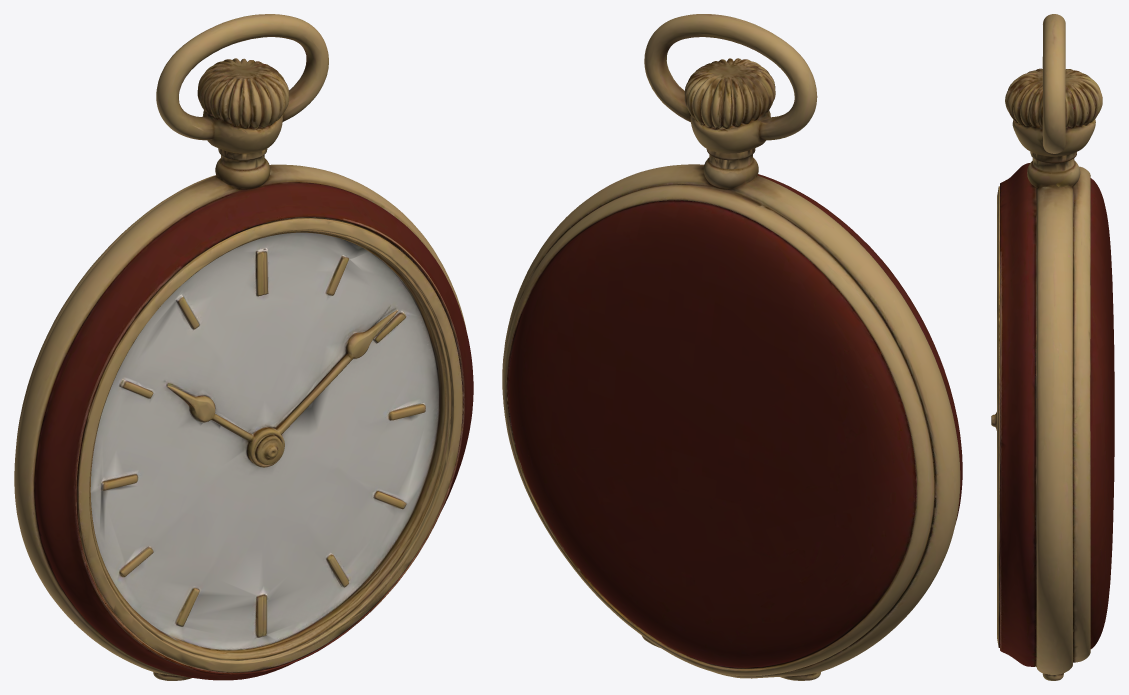
File: history-today.glb
3 renders of one model, left to right at view 1: azimuth 30°, elevation 25°; view 2: azimuth 150°, elevation 25°; view 3: azimuth 270°, elevation 25°, orthographic. The views are drawn at different scales.
Parts seen in each view (by area): view 1: Mesh_0; view 2: Mesh_0; view 3: Mesh_0.
Boxes of the visible parts, left/top/right/bottom form: Mesh_0: left=14, top=14, right=473, bottom=680; Mesh_0: left=502, top=14, right=962, bottom=680; Mesh_0: left=991, top=14, right=1114, bottom=680.
Bounding box in the file's own units: 0.8647 × 1.2 × 0.2135.
1 material, 1 textured.
